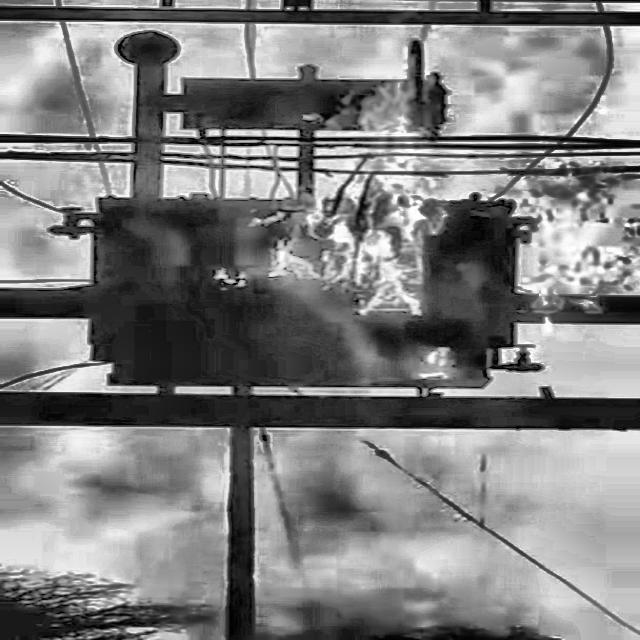Fire: (198, 55, 640, 337)
